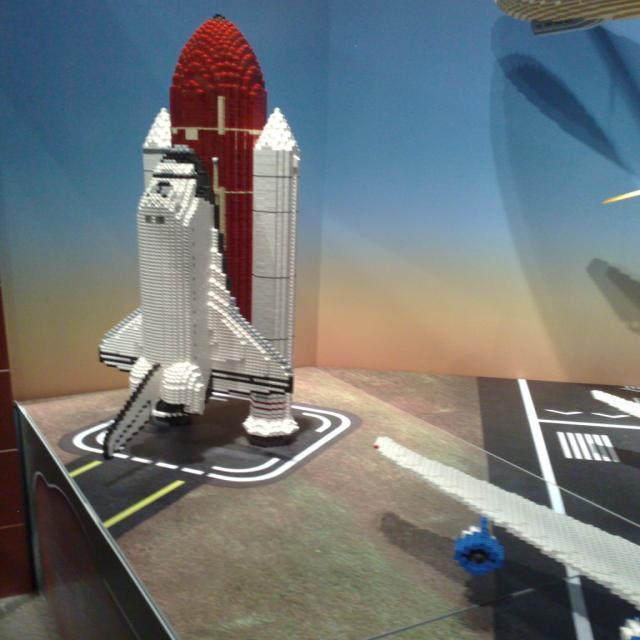missile: (248, 106, 302, 444)
